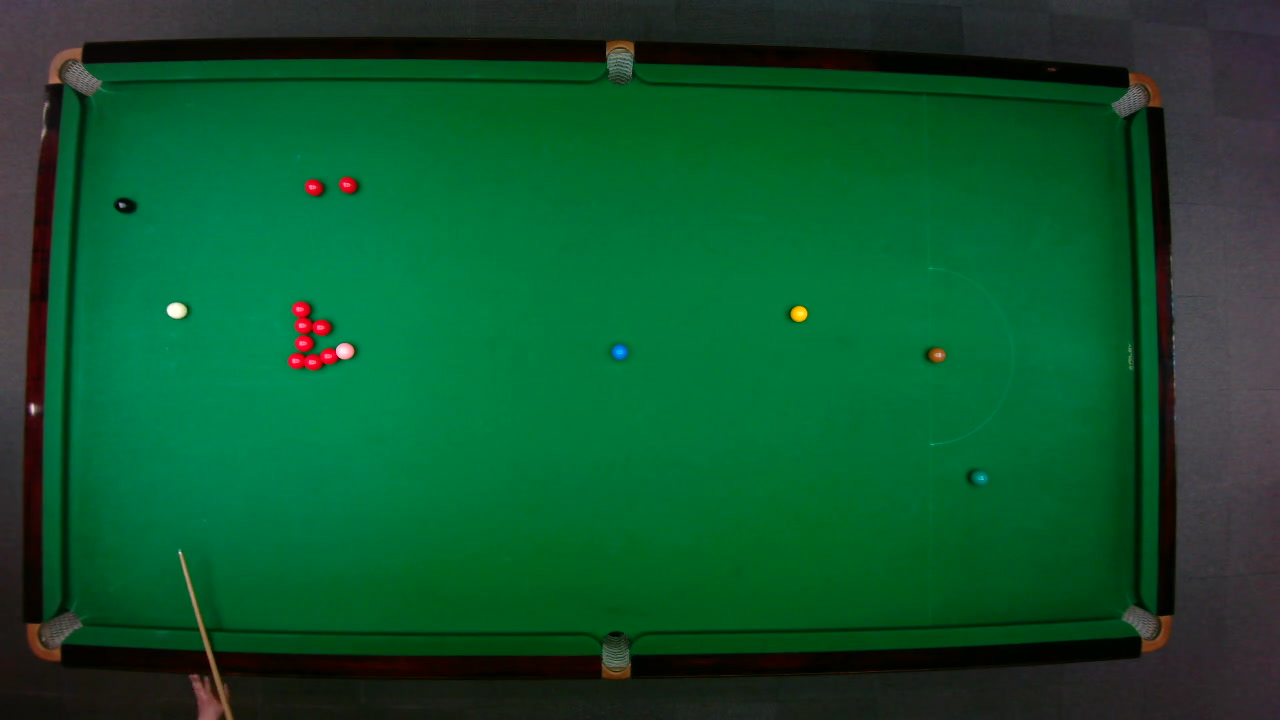bag: (25, 609, 83, 661), (46, 46, 102, 96), (1119, 603, 1171, 652), (1108, 71, 1161, 118), (600, 629, 629, 680), (605, 38, 633, 85)
black: (112, 196, 134, 213)
blue: (610, 342, 628, 360)
brown: (926, 346, 946, 362)
cue: (178, 550, 232, 720)
green: (969, 468, 989, 485)
pink: (334, 341, 355, 360)
red: (302, 177, 324, 196), (302, 352, 323, 371), (337, 175, 358, 194), (310, 317, 331, 335), (292, 334, 313, 352), (290, 299, 311, 317), (318, 346, 337, 365), (286, 351, 305, 369), (292, 317, 312, 333)
white: (164, 300, 188, 319)
yellow: (788, 304, 808, 322)
zone: (927, 266, 1013, 445)
